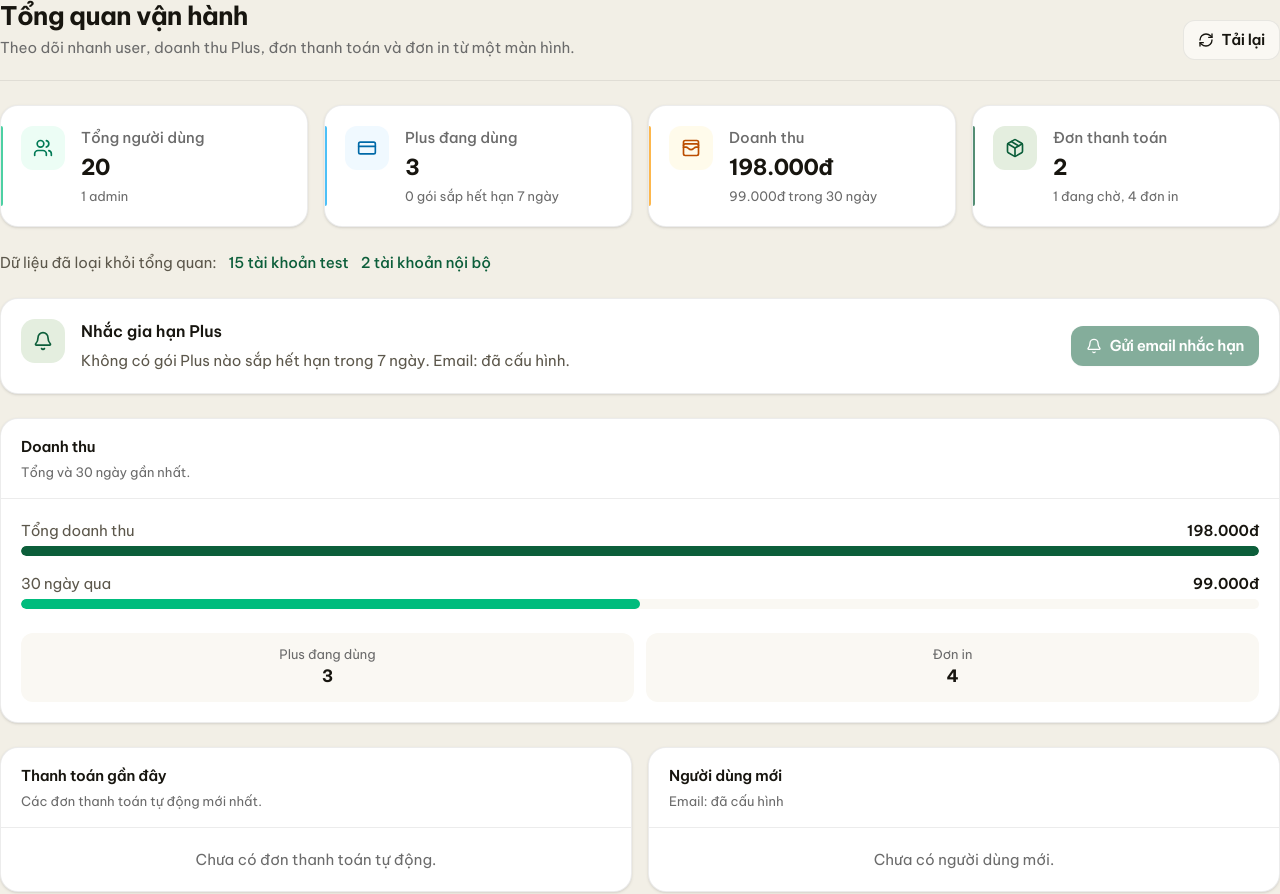
Test case: AdminDashboardPage operational summary › keeps rendered KPIs visible when a refresh fails
The width and height of the screenshot is (1280, 894).
Check: the text "20" is shown, box [81, 153, 110, 181]
Click the button "Tải lại". click: coordinates (1231, 40)
box: [1182, 20, 1279, 60]
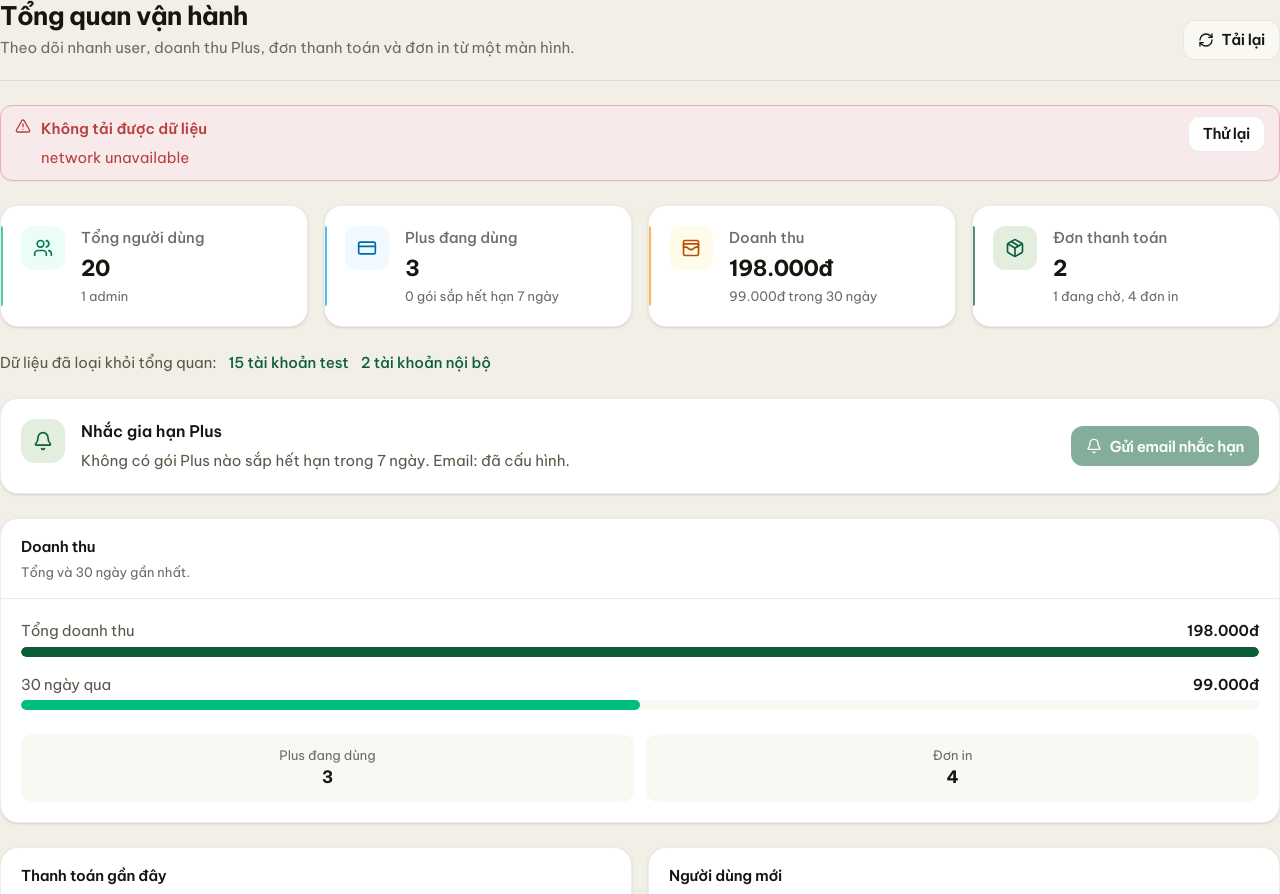
Check: the text "20" is shown, box [81, 254, 110, 282]
Check: the message shows "network unavailable", box [41, 148, 189, 167]
